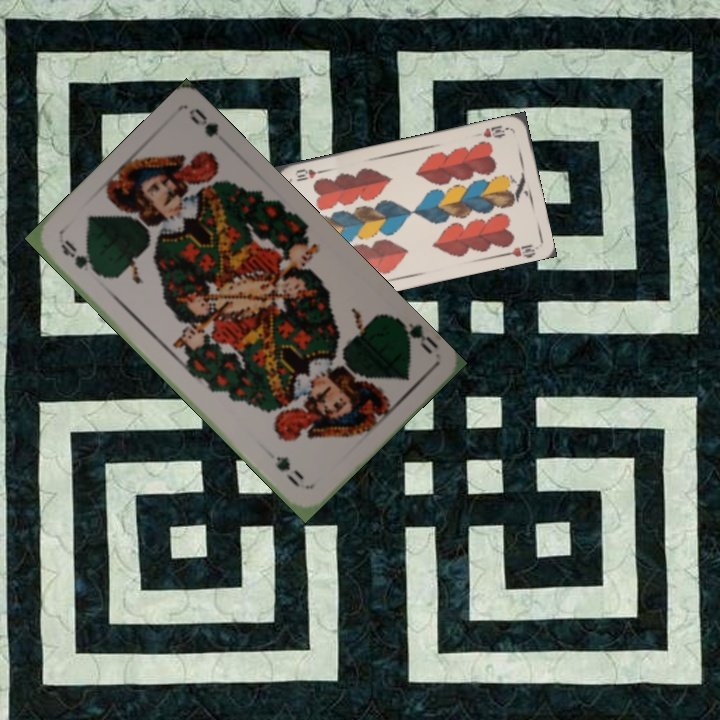GO: (56, 236, 105, 279), (390, 314, 439, 357)
H10: (479, 121, 511, 141)
